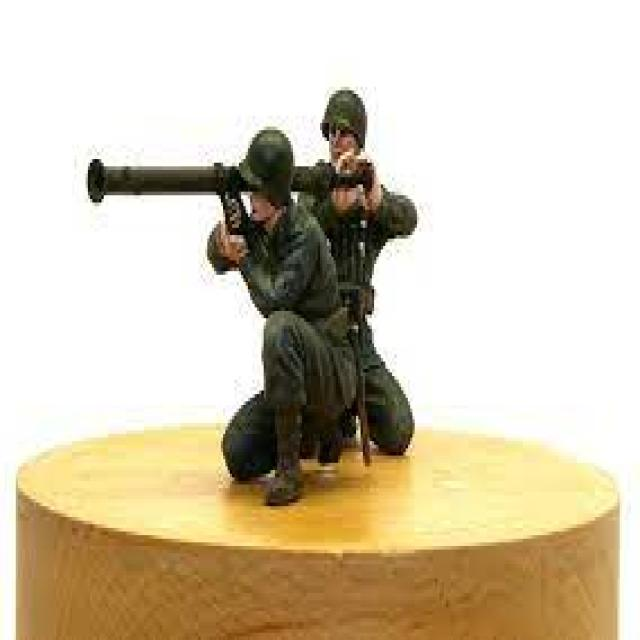bazooka: (77, 142, 388, 270)
